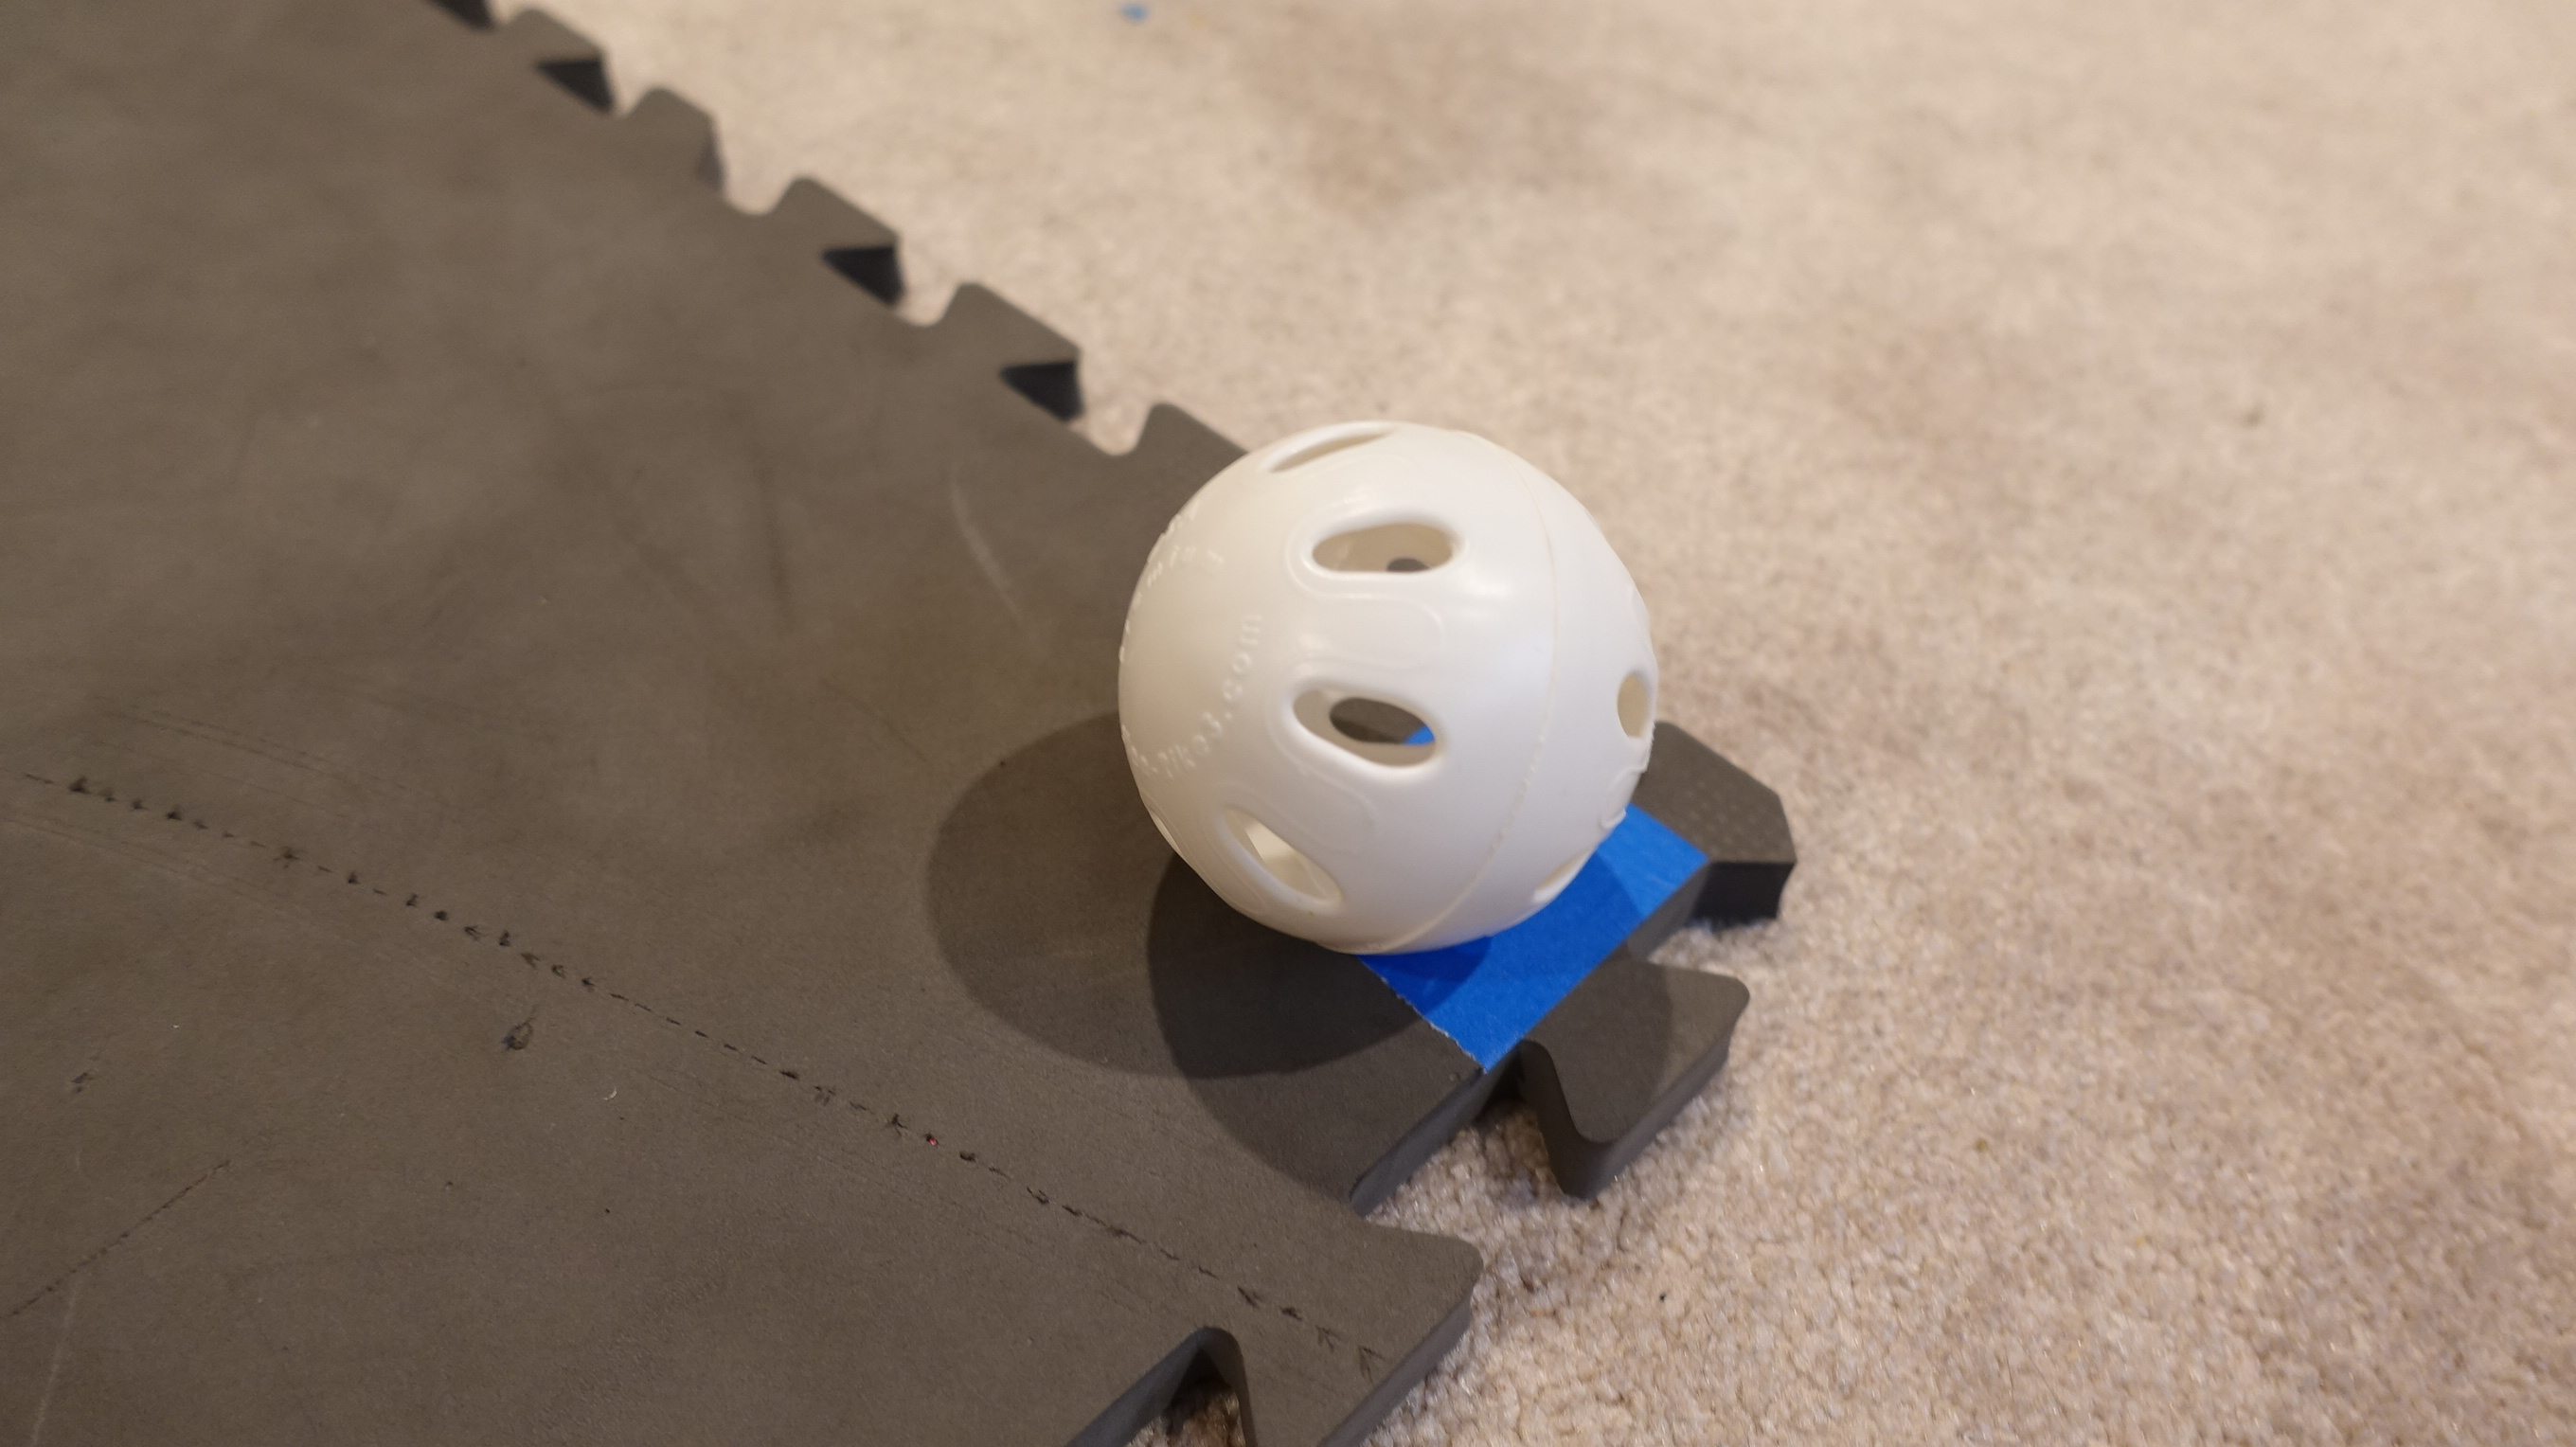silver: (1095, 416, 1670, 971)
